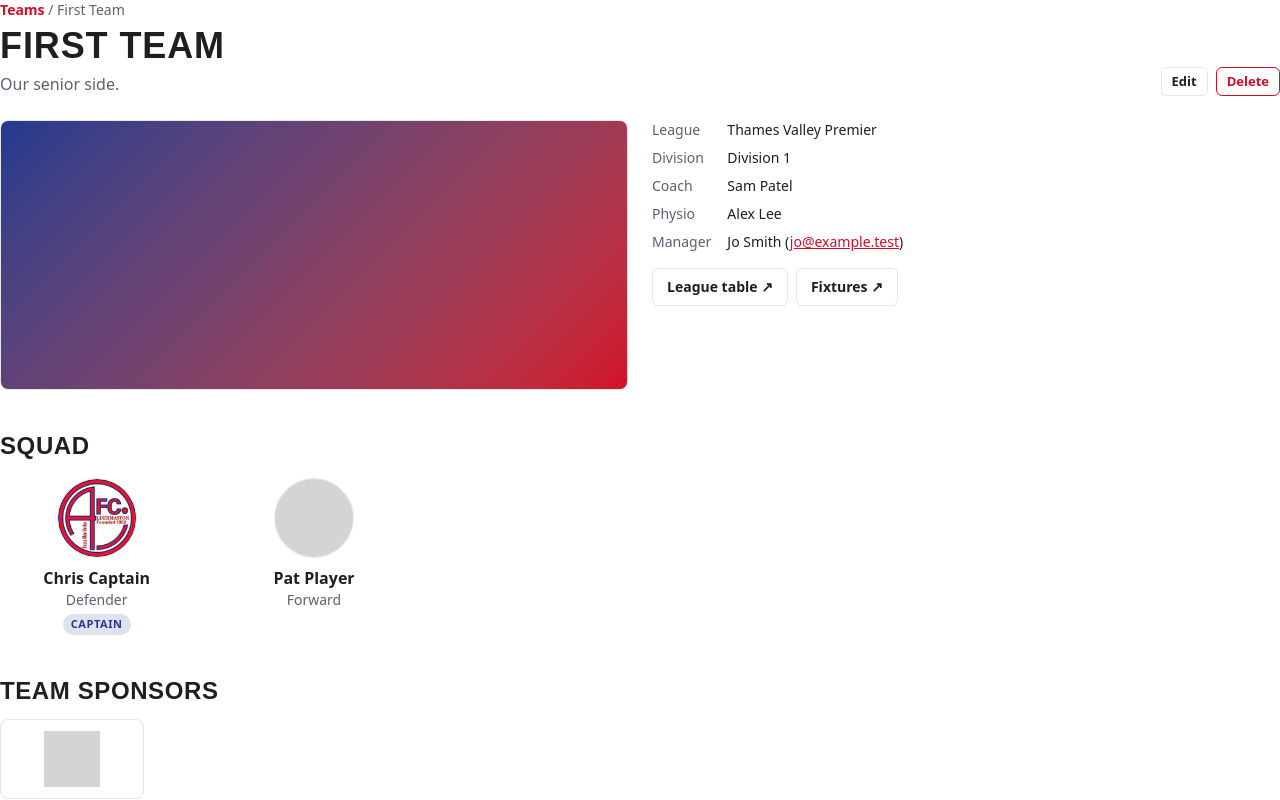
Test: Team editing › warns that deleting unlinks players, sponsors and managers
Click the button "Delete": (1248, 81) [1216,66,1279,96]
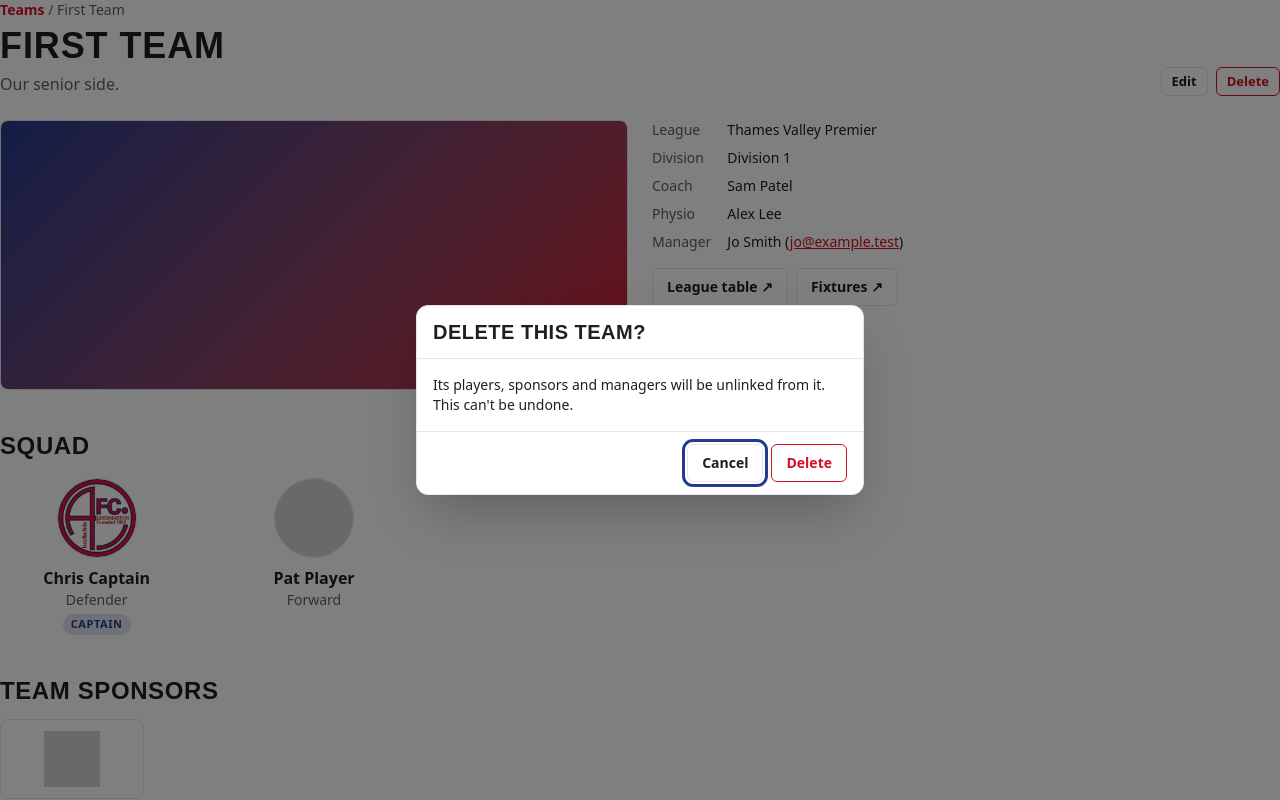
Expected: the dialog "Delete this team?" shows "Its players, sponsors and managers will be unlinked from it.", [433,375,825,414]
Click the button "Delete" below "Delete this team?": (809, 463) [772,444,847,482]
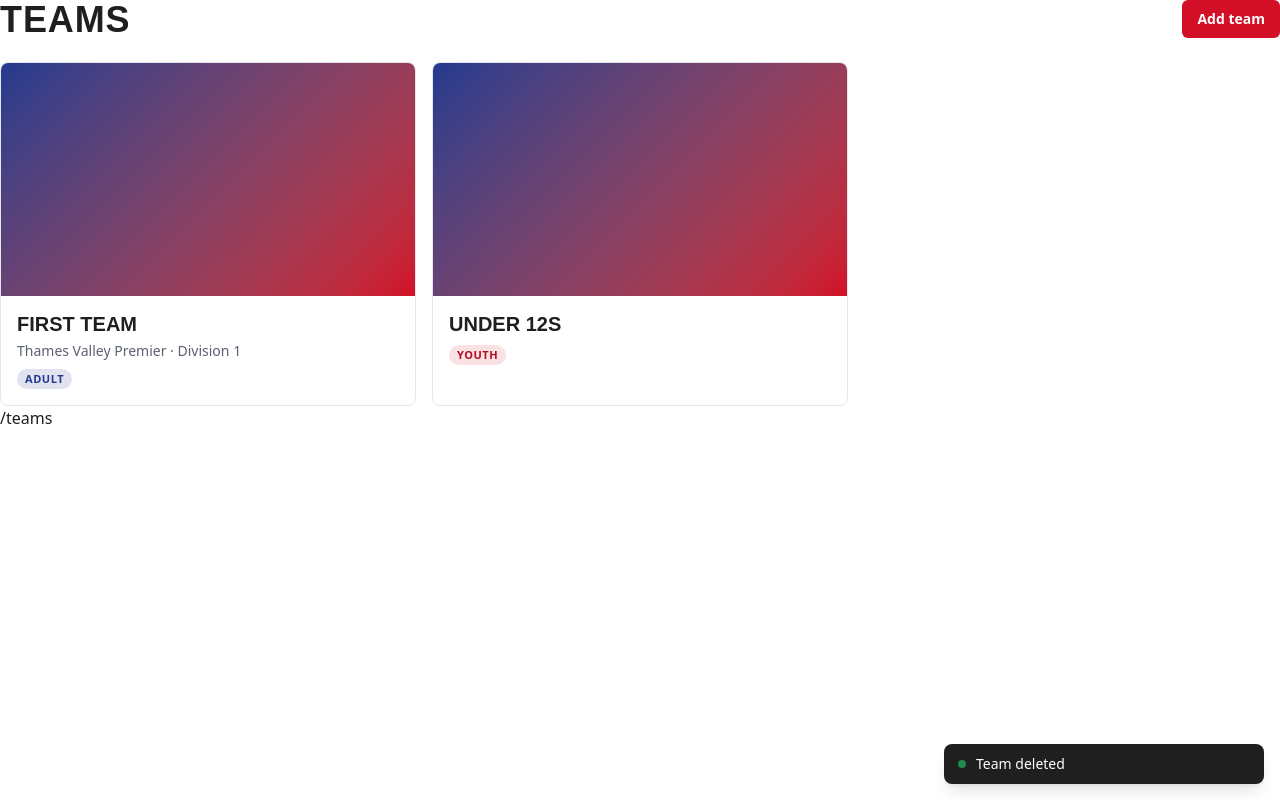
Expected: the text with test id "location" reads "/teams", [0,407,52,429]
